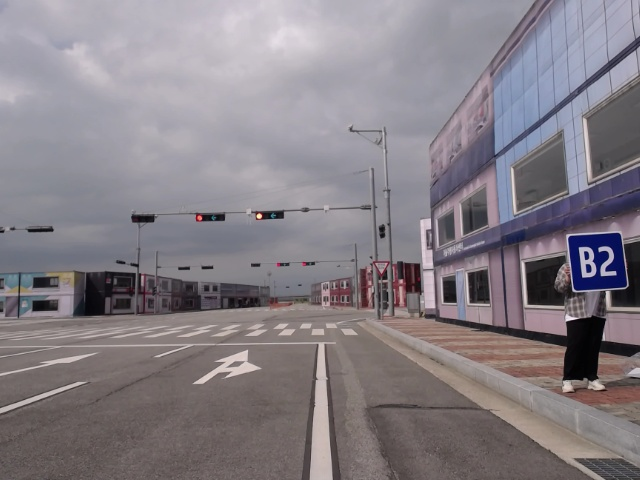delivery_b2: (566, 234, 630, 294)
left_green_4: (192, 211, 228, 224), (255, 210, 286, 221), (276, 261, 292, 268), (301, 261, 317, 267)
